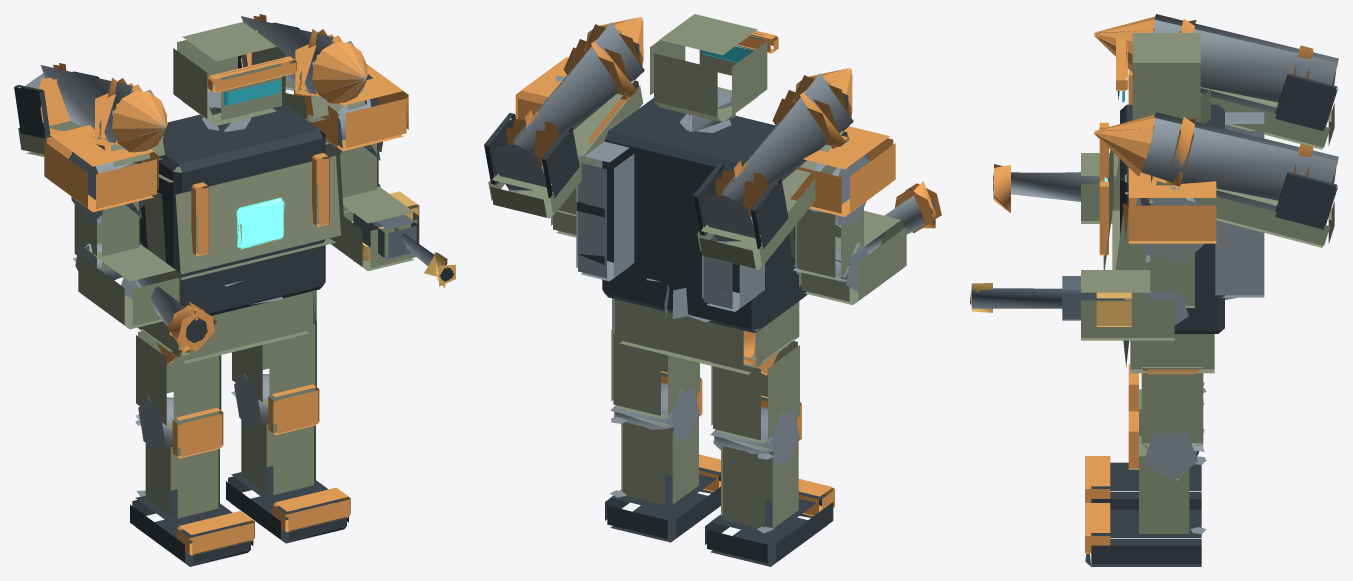
Rendered from boss-siege-mech.glb.
3 views of the same model, side by side, from view 1: azimuth 30°, elevation 25°; view 2: azimuth 150°, elevation 25°; view 3: azimuth 270°, elevation 25° (orthographic). The views are drawn at different scales.
Visible parts, largest first — view 1: Sloped breastplate, Torso skeleton, Thigh armor, Thigh armor.001, Upper arm, Shoulder plate, Pelvic armor, Upper arm.001, Canister band, Hip bearing, Shoulder plate.001, Hip bearing.001 (+18 smaller); view 2: Torso skeleton, Thigh armor, Thigh armor.001, Back power unit, Sloped breastplate, Upper arm, Pelvic armor, Missile casing.001, Missile casing, Shoulder plate, Armored foot, Armored foot.001 (+14 smaller); view 3: Missile casing.001, Sloped breastplate, Missile casing, Thigh armor.001, Upper arm.001, Shoulder plate.001, Armored foot.001, Back power unit, Torso skeleton, Launcher cradle.001, Pelvic armor, Canister band.002 (+15 smaller).
Boxes of the visible parts, x1=… form: Sloped breastplate: x1=145, y1=22, x2=344, y2=280; Torso skeleton: x1=140, y1=102, x2=325, y2=315; Thigh armor: x1=136, y1=329, x2=221, y2=518; Thigh armor.001: x1=232, y1=321, x2=316, y2=494; Upper arm: x1=74, y1=200, x2=181, y2=329; Shoulder plate: x1=44, y1=125, x2=217, y2=352; Pelvic armor: x1=137, y1=290, x2=316, y2=363; Upper arm.001: x1=329, y1=143, x2=419, y2=271; Canister band: x1=39, y1=63, x2=167, y2=152; Hip bearing: x1=156, y1=342, x2=254, y2=555; Shoulder plate.001: x1=294, y1=64, x2=408, y2=151; Hip bearing.001: x1=268, y1=384, x2=350, y2=532; Torso skeleton: x1=576, y1=98, x2=807, y2=332; Thigh armor: x1=711, y1=333, x2=799, y2=528; Thigh armor.001: x1=611, y1=330, x2=699, y2=505; Back power unit: x1=576, y1=89, x2=764, y2=311; Sloped breastplate: x1=650, y1=14, x2=795, y2=257; Upper arm: x1=795, y1=208, x2=906, y2=304; Pelvic armor: x1=612, y1=298, x2=799, y2=374; Missile casing.001: x1=492, y1=22, x2=644, y2=192; Missile casing: x1=700, y1=73, x2=853, y2=243; Shoulder plate: x1=790, y1=126, x2=941, y2=233; Armored foot: x1=705, y1=491, x2=833, y2=566; Armored foot.001: x1=605, y1=467, x2=720, y2=542; Missile casing.001: x1=1139, y1=112, x2=1338, y2=211; Sloped breastplate: x1=1103, y1=33, x2=1210, y2=269; Missile casing: x1=1148, y1=14, x2=1338, y2=113; Thigh armor.001: x1=1139, y1=367, x2=1203, y2=533; Upper arm.001: x1=1081, y1=243, x2=1194, y2=340; Shoulder plate.001: x1=1123, y1=168, x2=1216, y2=243; Armored foot.001: x1=1085, y1=509, x2=1201, y2=566; Back power unit: x1=1215, y1=112, x2=1264, y2=297; Torso skeleton: x1=1120, y1=104, x2=1224, y2=333; Launcher cradle.001: x1=1149, y1=175, x2=1334, y2=247; Pelvic armor: x1=1123, y1=334, x2=1214, y2=373; Canister band.002: x1=1093, y1=115, x2=1313, y2=186.
Size of the model in its own units: 4.42 by 6.31 by 4.38.
